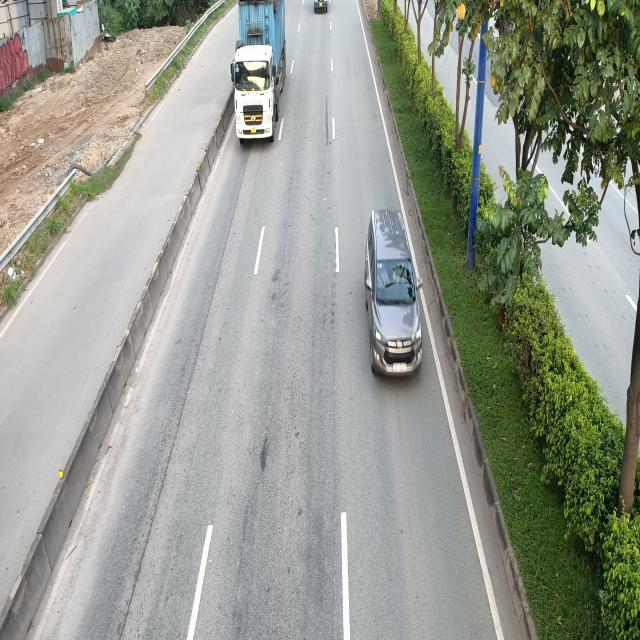car: (366, 210, 425, 377)
container: (231, 2, 289, 147)
